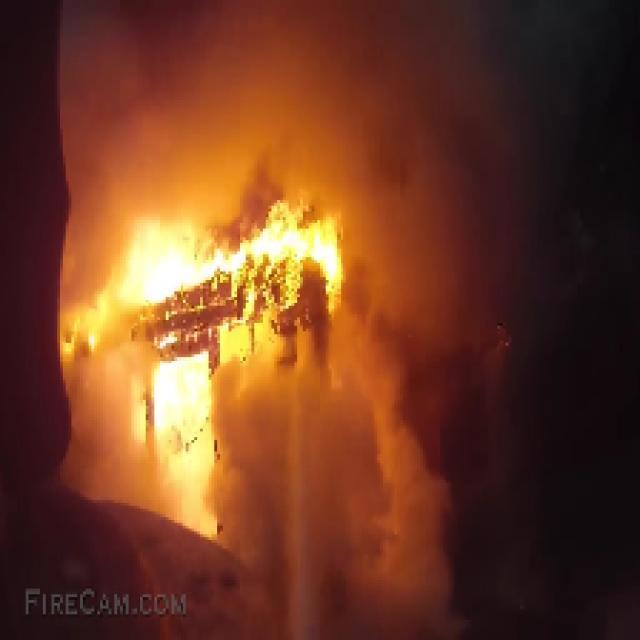Fire: (63, 205, 343, 540)
Smoke: (68, 8, 508, 640)
